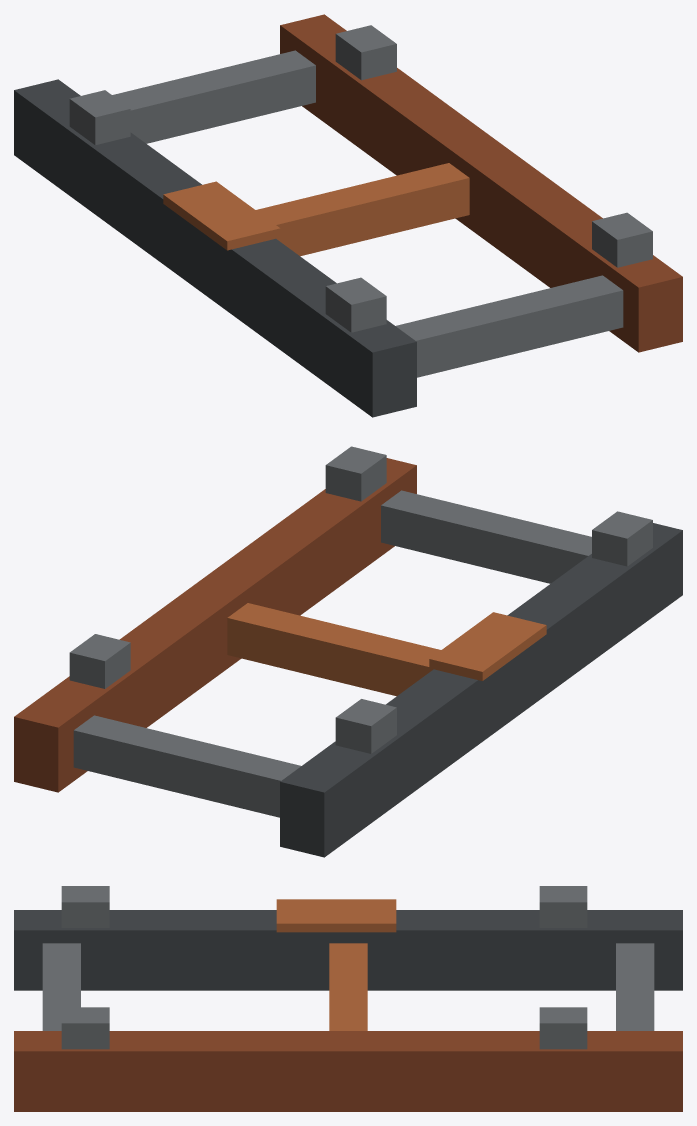
Rendered from item_chassis_frame.glb.
3 renders of one model, top to bottom at view 1: azimuth 30°, elevation 25°; view 2: azimuth 150°, elevation 25°; view 3: azimuth 270°, elevation 25°, orthographic. The views are drawn at different scales.
Visible parts, largest first — view 1: chassis_frame; view 2: chassis_frame; view 3: chassis_frame.
Boxes of the visible parts, x1,y1,x2,y2 form: chassis_frame: (14,14,682,417); chassis_frame: (14,446,682,857); chassis_frame: (14,886,682,1111).
Size of the model in its own units: 0.71 by 0.2 by 1.4.
